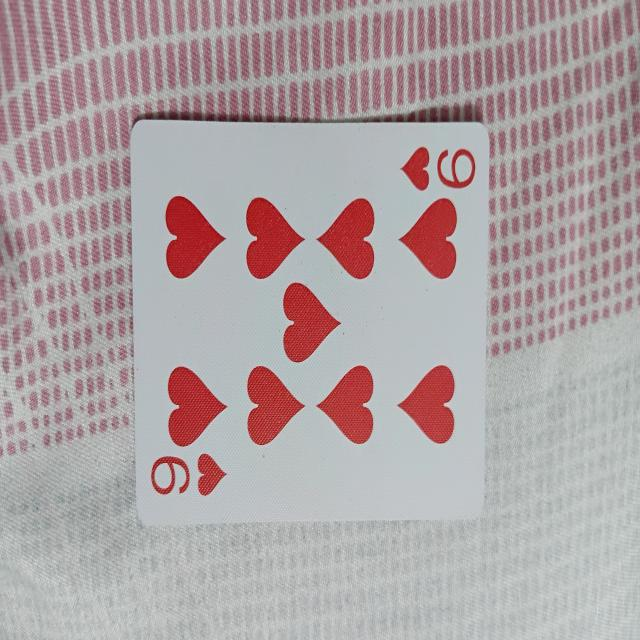9H: (132, 120, 484, 520)
